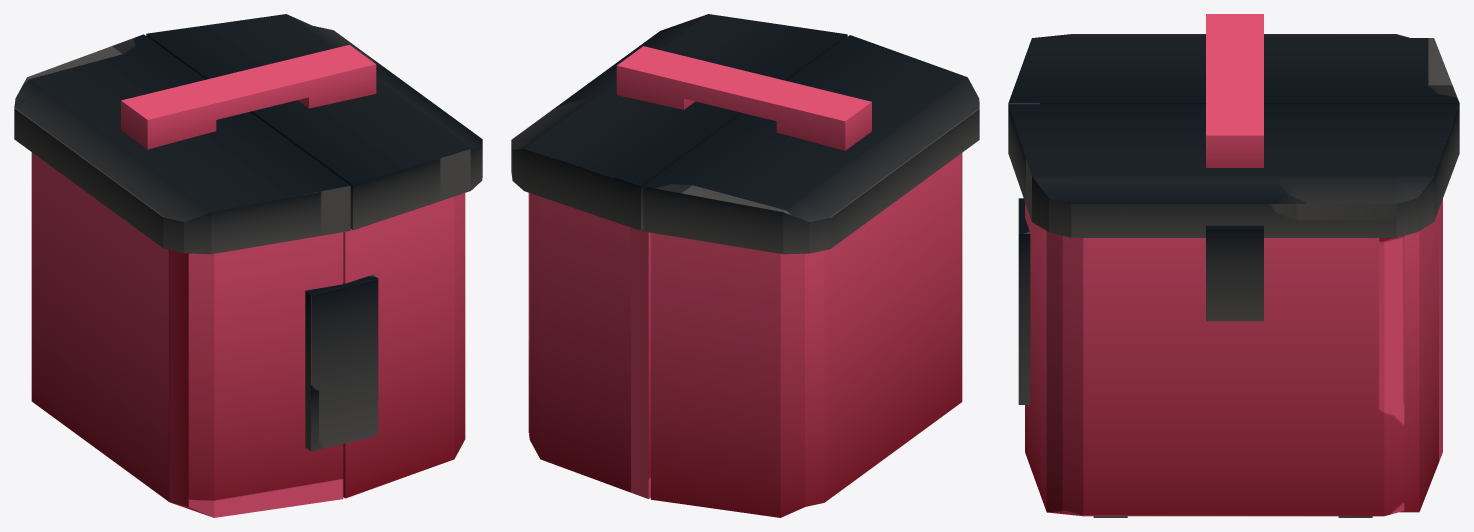
File: Rice Cooker.glb
The picture shows the model from 3 angles, left to right: view 1: azimuth 30°, elevation 25°; view 2: azimuth 150°, elevation 25°; view 3: azimuth 270°, elevation 25°; orthographic projection. The views are drawn at different scales.
Visible parts, largest first — view 1: Cube, Cube.003, Cube.005, Cube.002; view 2: Cube, Cube.003, Cube.005; view 3: Cube, Cube.003, Cube.005, Cube.004, Cube.002.
Part boxes in pixels (<box>): Cube: <box>31,152,465,517</box>; Cube.003: <box>14,14,482,254</box>; Cube.005: <box>121,44,376,149</box>; Cube.002: <box>305,274,378,451</box>; Cube: <box>528,153,962,517</box>; Cube.003: <box>511,14,979,254</box>; Cube.005: <box>616,46,871,150</box>; Cube: <box>1025,199,1442,516</box>; Cube.003: <box>1008,34,1459,237</box>; Cube.005: <box>1206,14,1263,167</box>; Cube.004: <box>1206,225,1263,321</box>; Cube.002: <box>1018,198,1030,404</box>.
Size of the model in its own units: 2.21 by 2.31 by 2.42.
Materials: 2 (2 with a texture image).
